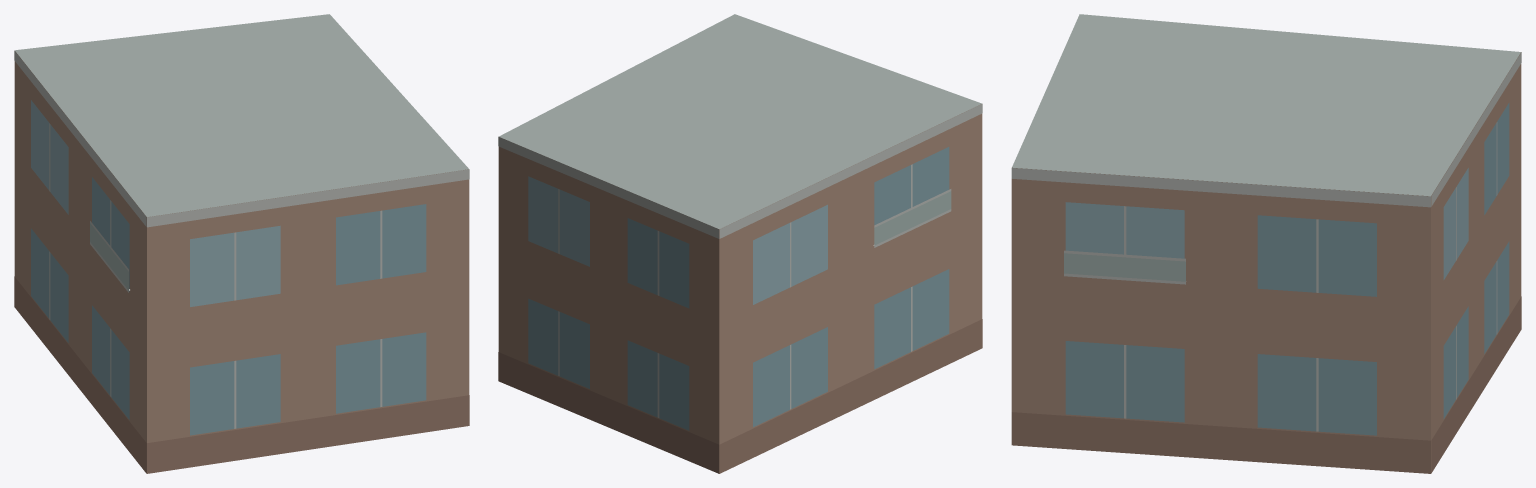
File: survey-upis-32835840.glb
3 renders of one model, left to right at view 1: azimuth 30°, elevation 25°; view 2: azimuth 150°, elevation 25°; view 3: azimuth 270°, elevation 25°, orthographic. The views are drawn at different scales.
Visible parts, largest first — view 1: survey-upis-32835840.tmp; view 2: survey-upis-32835840.tmp; view 3: survey-upis-32835840.tmp.
Boxes of the visible parts, x1,y1,x2,y2 form: survey-upis-32835840.tmp: (14, 14, 469, 473); survey-upis-32835840.tmp: (498, 14, 982, 473); survey-upis-32835840.tmp: (1011, 14, 1521, 473).
Bounding box in the file's own units: 8.6 × 6.1 × 10.16.
